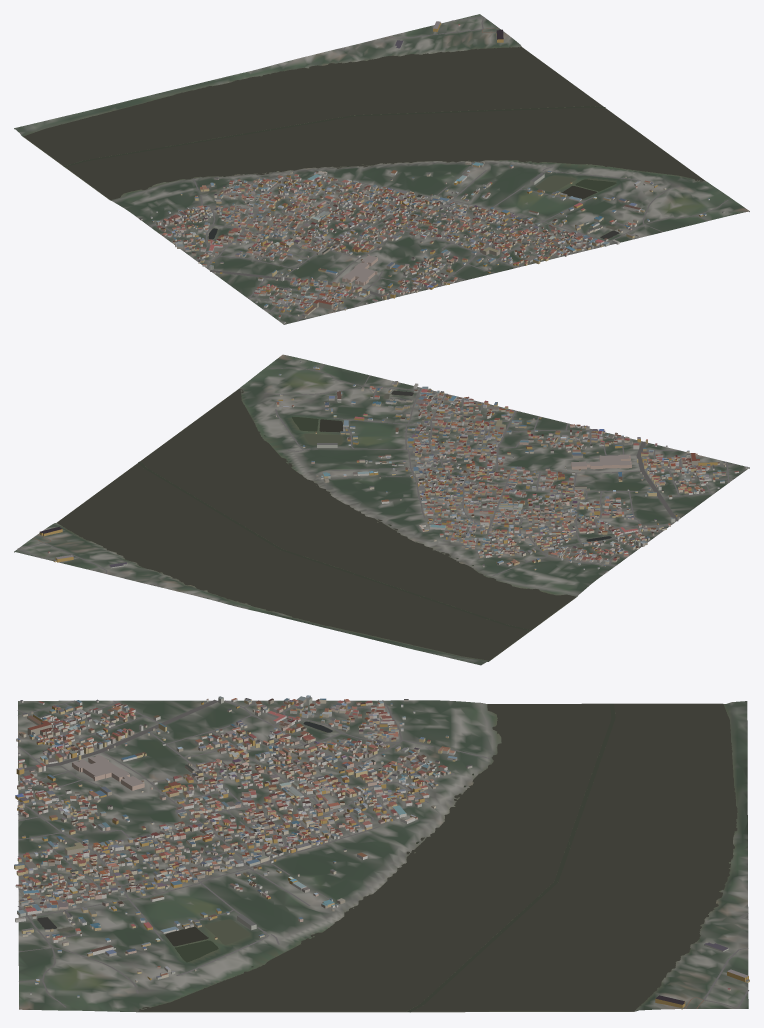
The picture shows the model from 3 angles, top to bottom: view 1: azimuth 30°, elevation 25°; view 2: azimuth 150°, elevation 25°; view 3: azimuth 270°, elevation 25°; orthographic projection. The views are drawn at different scales.
Parts seen in each view (by area): view 1: water, ground, buildings, roads; view 2: water, ground, buildings, roads; view 3: water, ground, buildings, roads.
Part boxes in pixels (x1,y1,x2,y2): water: [23, 47, 704, 239]; ground: [14, 14, 749, 324]; buildings: [139, 21, 724, 323]; roads: [149, 16, 728, 321]; water: [57, 388, 611, 660]; ground: [14, 354, 749, 665]; buildings: [39, 361, 747, 572]; roads: [17, 364, 736, 586]; water: [37, 703, 737, 1012]; ground: [18, 700, 748, 1012]; buildings: [14, 695, 749, 1009]; roads: [17, 699, 748, 1008].
Size of the model in its own units: 1410 by 24.06 by 1414.
